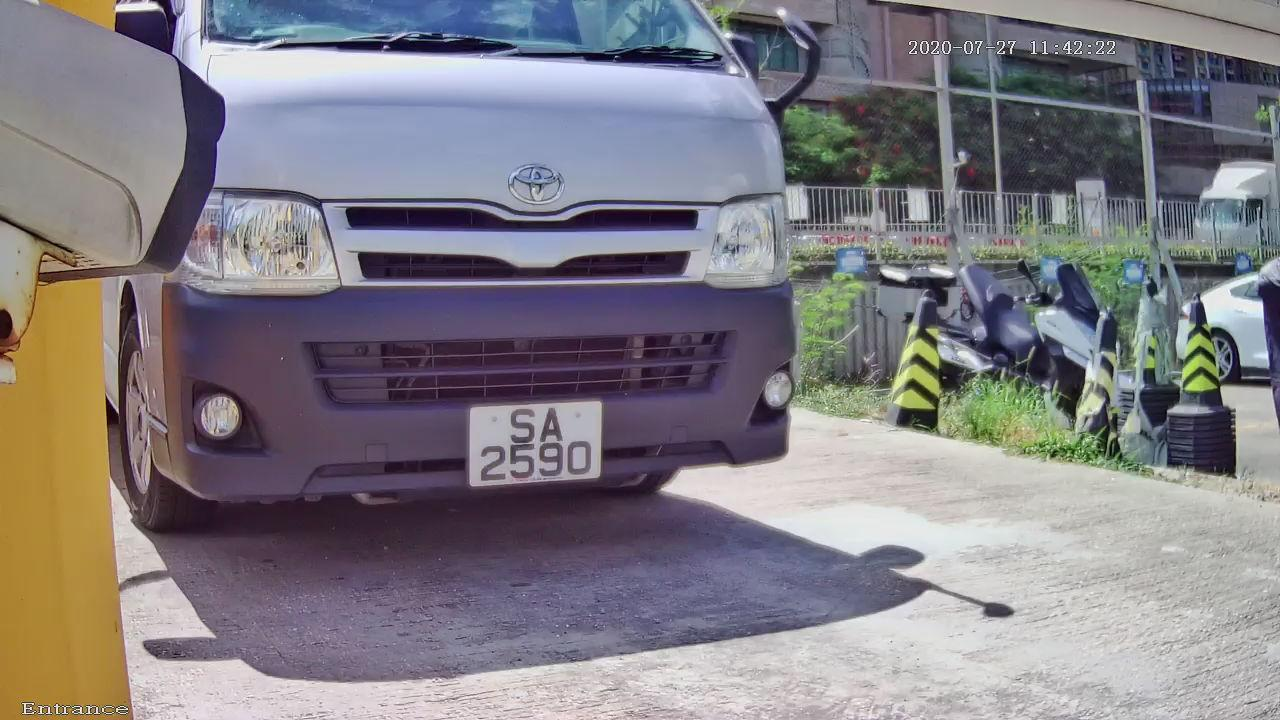privatecar: (86, 20, 909, 557)
